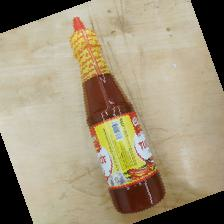Tuong: (69, 16, 167, 215)
